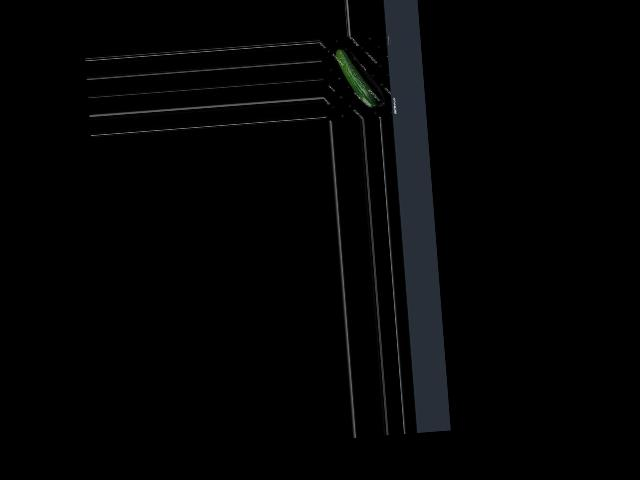cucumber: (335, 46, 378, 109)
